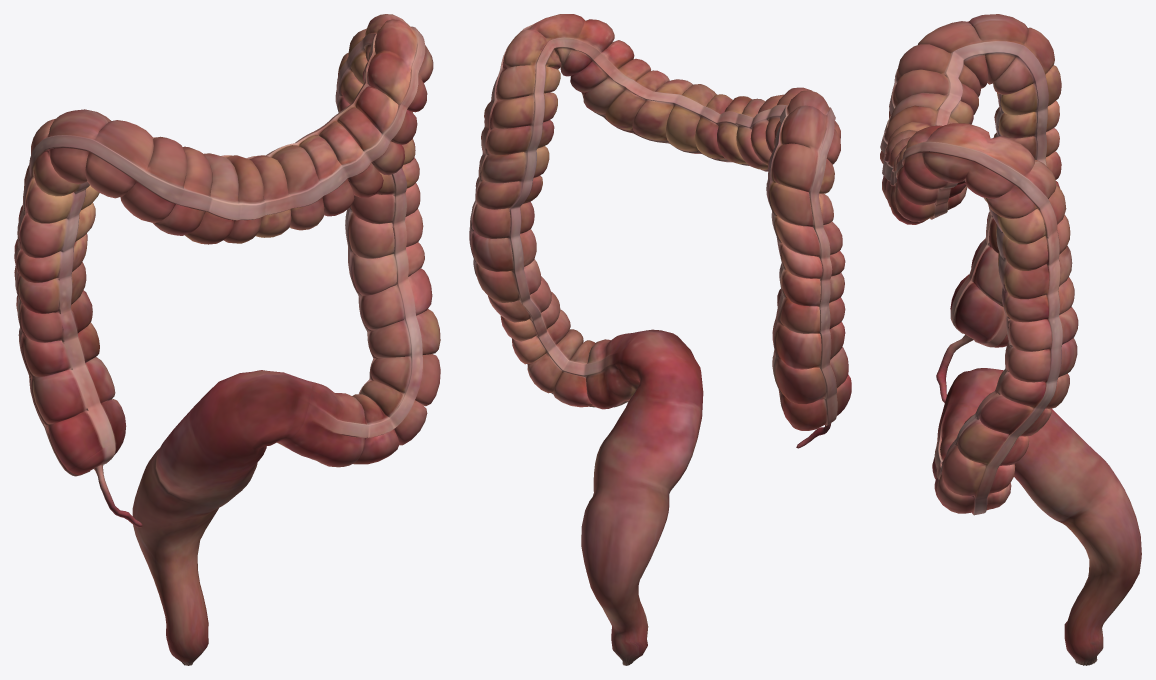
The model's file is 1.6 large intgestine.glb.
3 views of the same model, side by side, from view 1: azimuth 30°, elevation 25°; view 2: azimuth 150°, elevation 25°; view 3: azimuth 270°, elevation 25° (orthographic). The views are drawn at different scales.
Parts seen in each view (by area): view 1: Large_Intestine; view 2: Large_Intestine; view 3: Large_Intestine, Appendix.
Boxes of the visible parts, x1=… form: Large_Intestine: x1=14, y1=14, x2=440, y2=665; Large_Intestine: x1=469, y1=14, x2=851, y2=665; Large_Intestine: x1=880, y1=14, x2=1141, y2=665; Appendix: x1=936, y1=334, x2=973, y2=402.
Bounding box in the file's own units: 0.2298 × 0.3491 × 0.137.
1 material, 1 textured.
